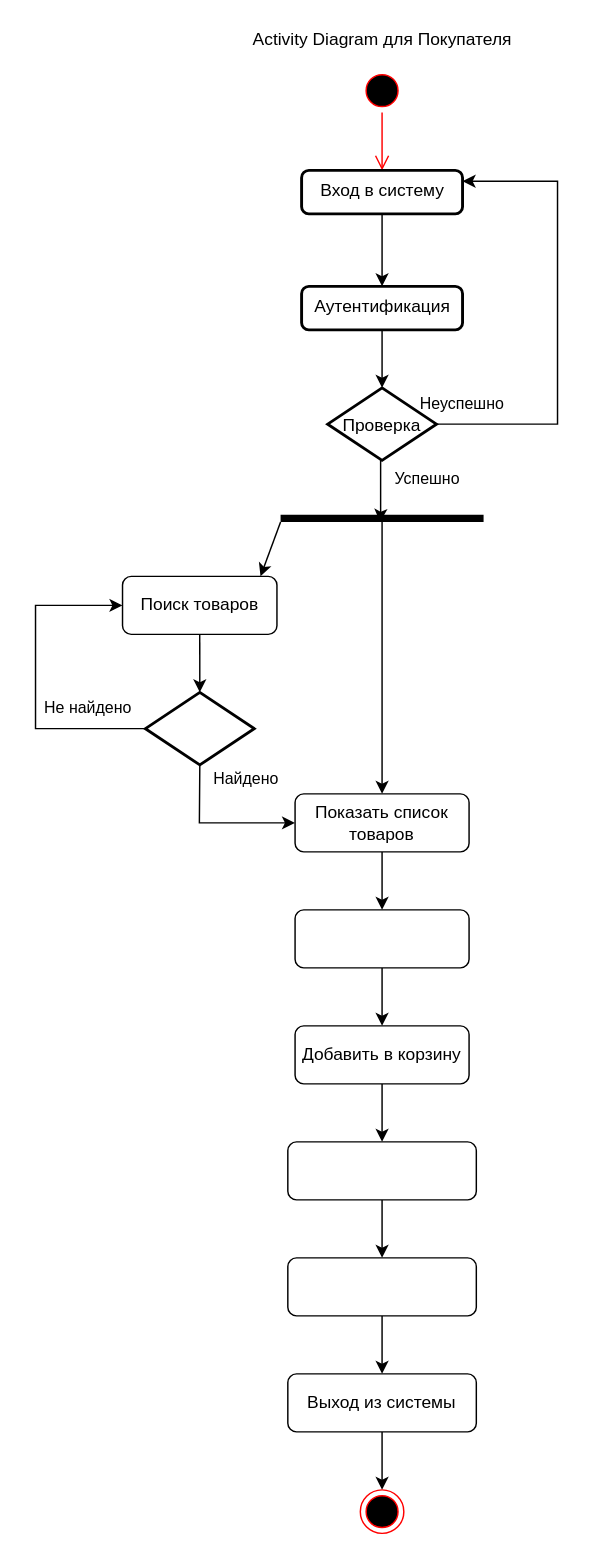
The diagram is 595 pixels wide and 1559 high, and some of its shapes have lost their labels. The centre of each missing label's shape, as x and y in pixels:
"Оплатить" belongs at (x=381, y=1286).
"Оформить доставку" belongs at (x=381, y=1170).
"Поиск" belongs at (x=199, y=728).
"Показать товар" belongs at (x=381, y=938).
